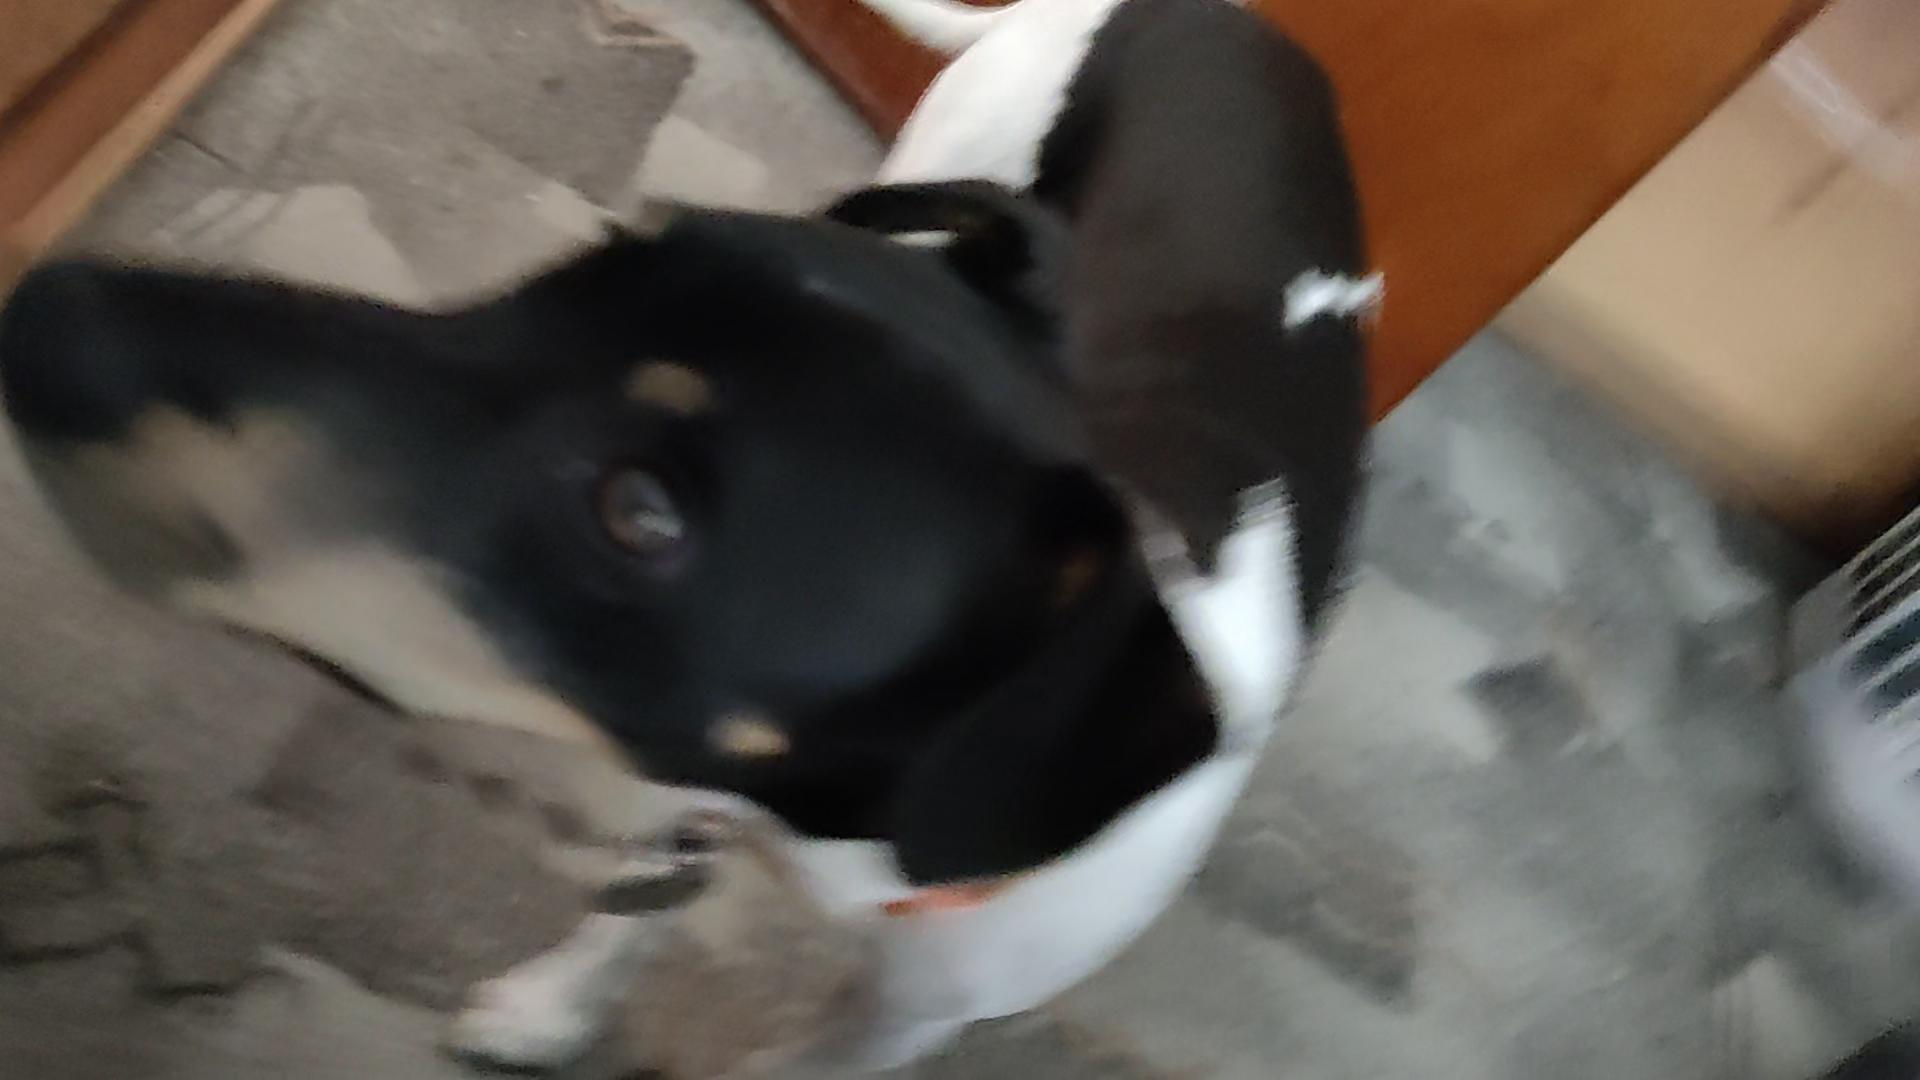Dog: (0, 0, 1387, 1079)
